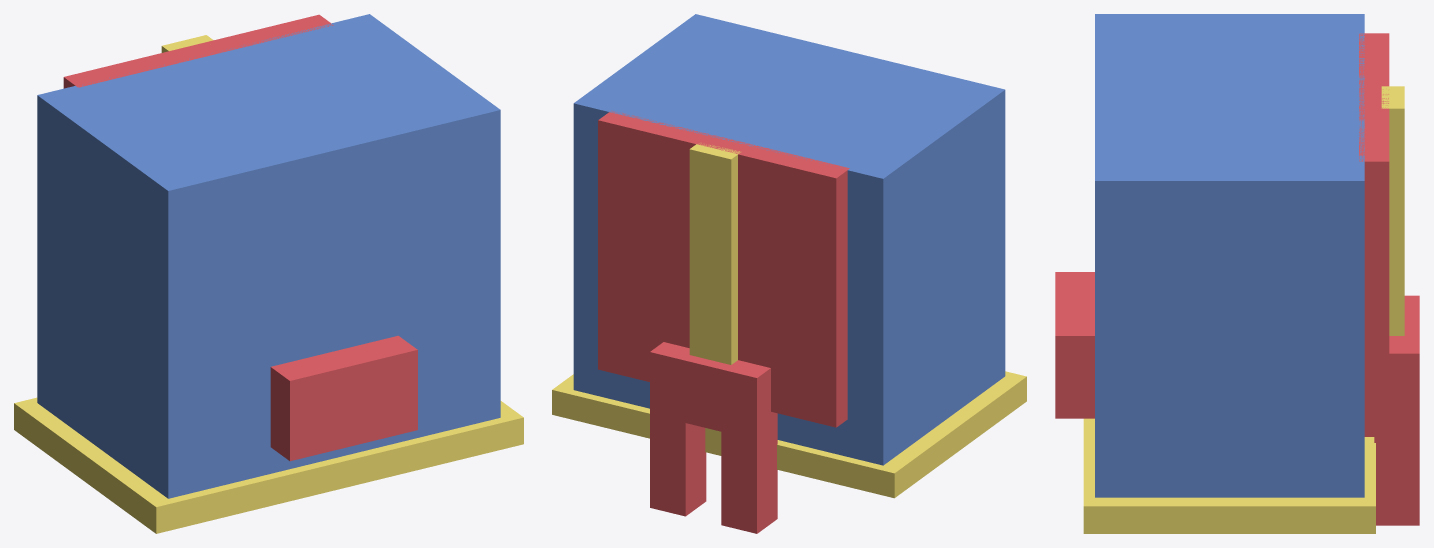
The model's file is junina_tronco.glb.
The picture shows the model from 3 angles, left to right: view 1: azimuth 30°, elevation 25°; view 2: azimuth 150°, elevation 25°; view 3: azimuth 270°, elevation 25°; orthographic projection. The views are drawn at different scales.
Visible parts, largest first — view 1: junina_tronco; view 2: junina_tronco; view 3: junina_tronco.
Part boxes in pixels (left/top/right/bottom): junina_tronco: left=14, top=14, right=523, bottom=533; junina_tronco: left=552, top=14, right=1026, bottom=533; junina_tronco: left=1055, top=14, right=1419, bottom=533.
Bounding box in the file's own units: 0.575 × 0.58 × 0.48.
